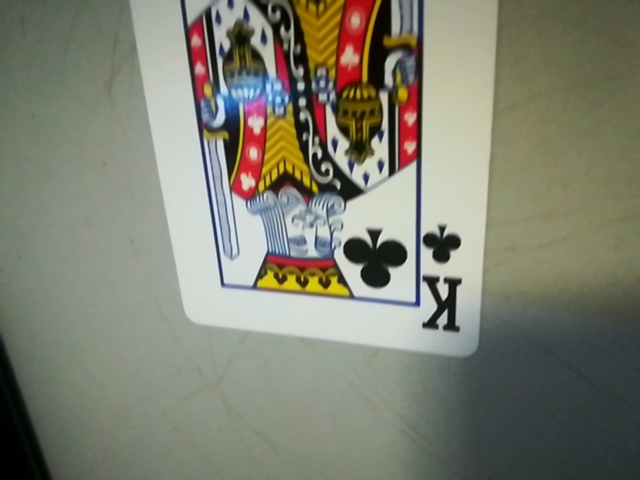mh k: (411, 220, 477, 342)
